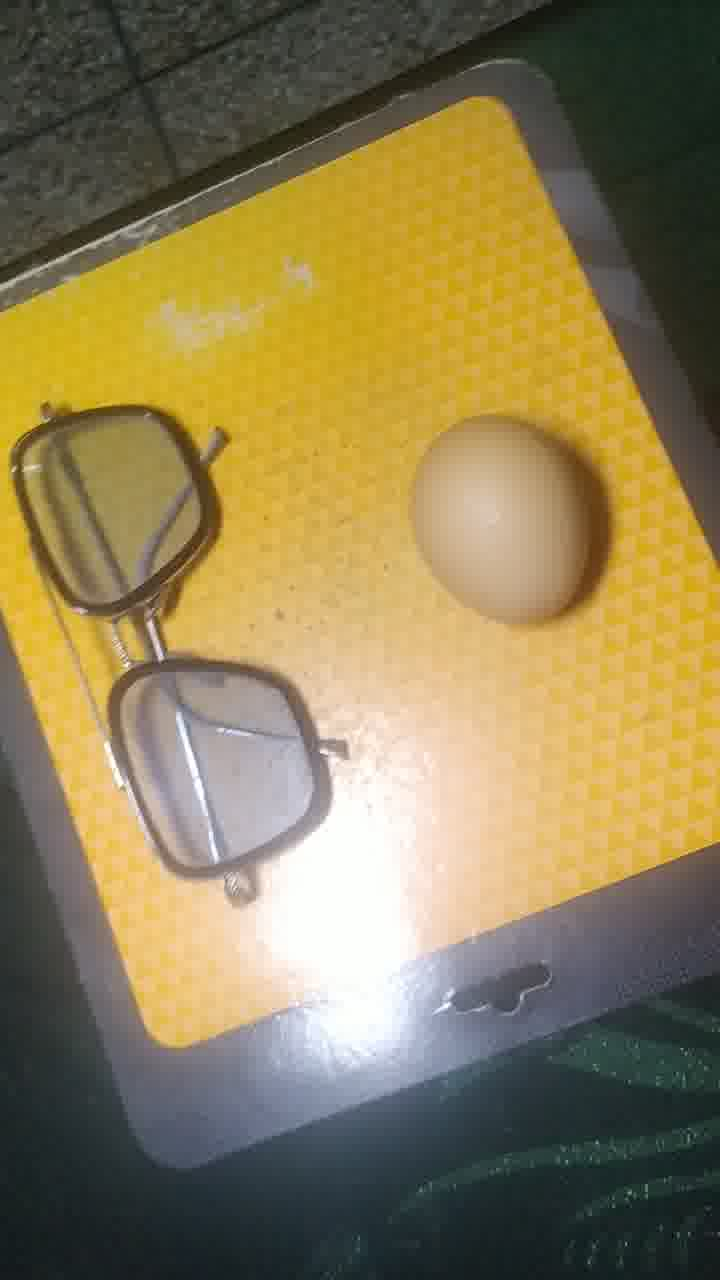egg: (403, 407, 617, 647)
sunglass: (6, 398, 368, 898)
